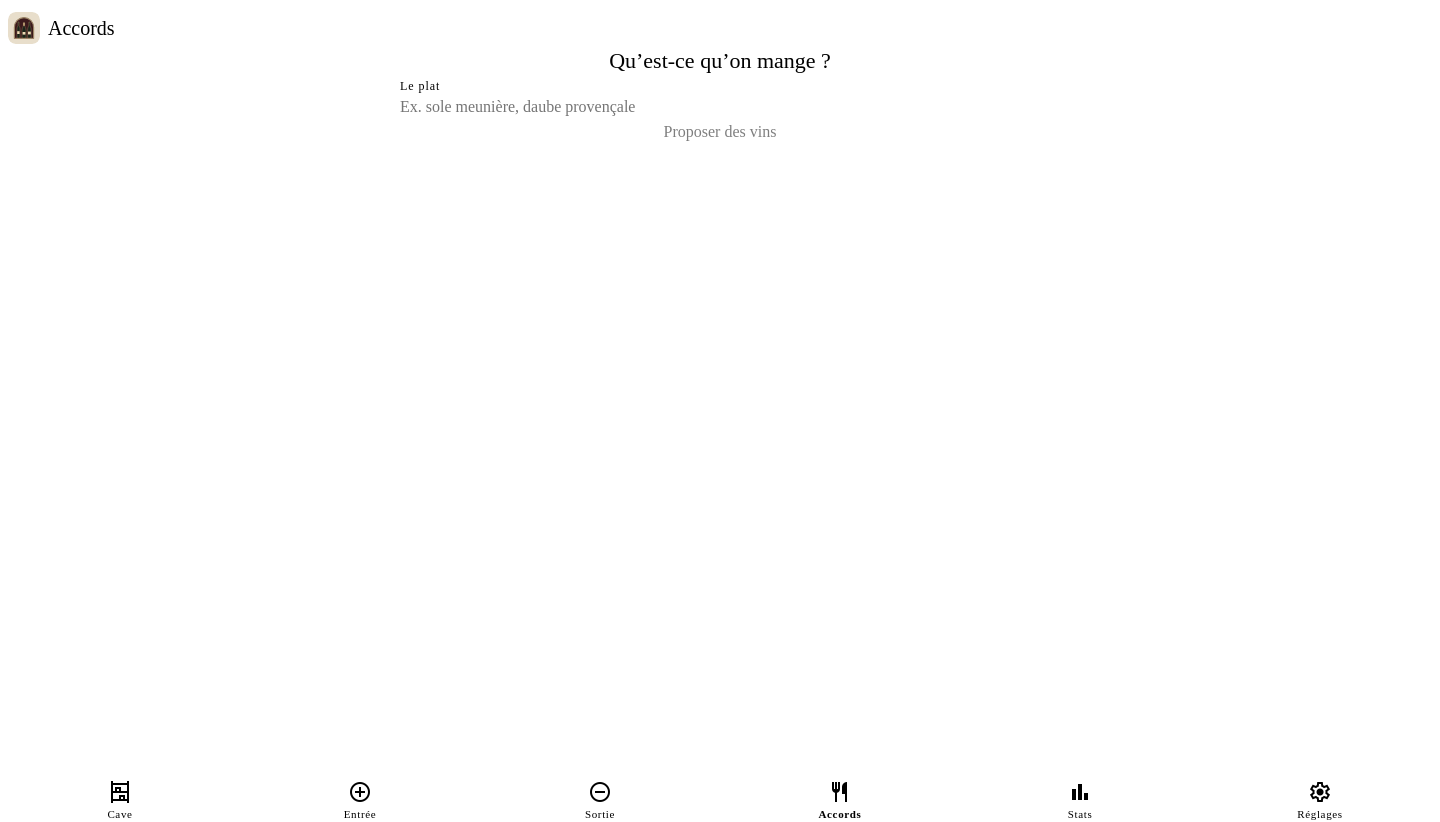
Test: cave vide : message
The width and height of the screenshot is (1440, 822).
Type "Sole" into the field labelled "Le plat" at coordinates (720, 107), box [400,95,1040,119]
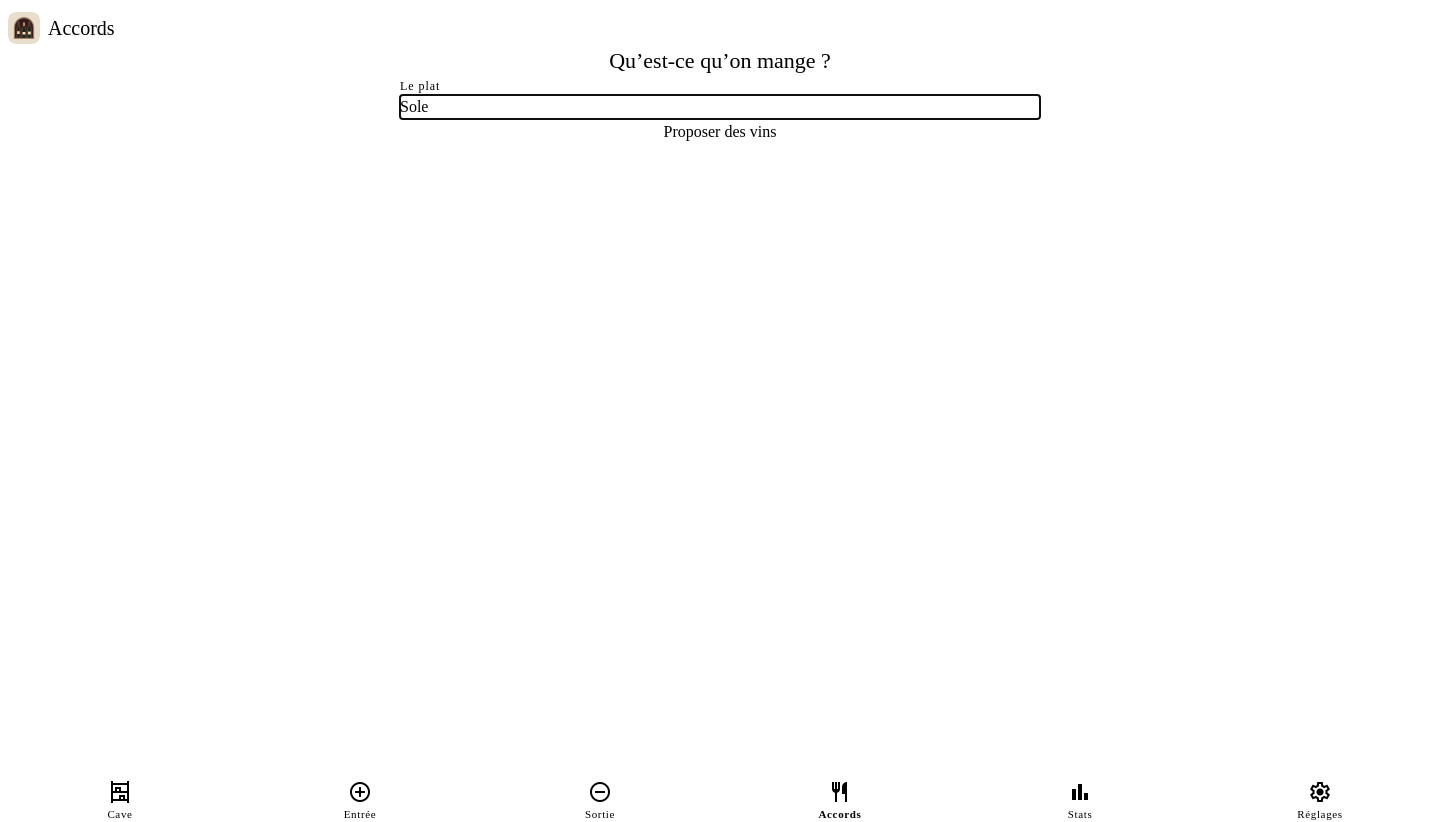
Click the button "Proposer des vins" at coordinates (720, 132), box [400,119,1040,145]
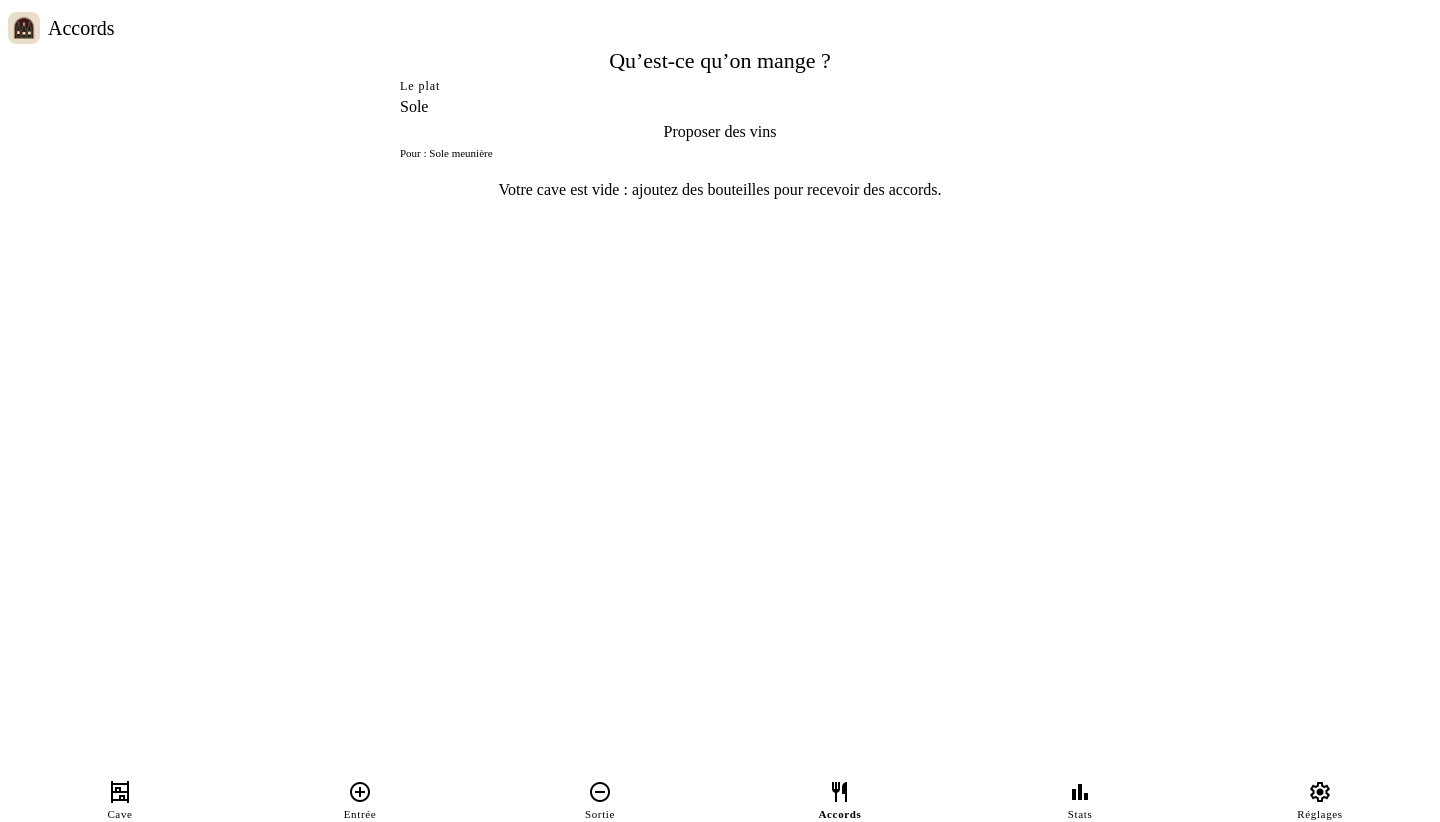
Result: the text "Votre cave est vide" is shown at [498,180,942,198]
